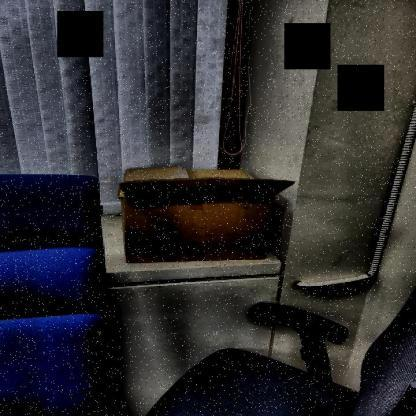-: (102, 161, 300, 276)
